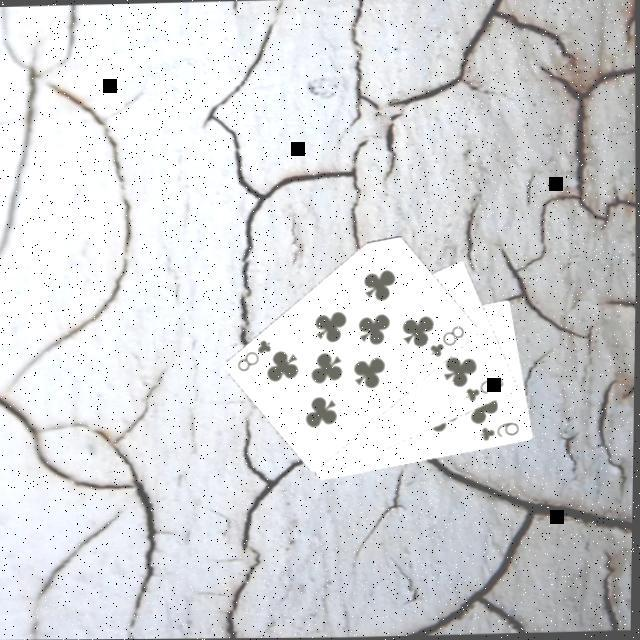5C: (462, 371, 508, 404)
8C: (233, 333, 276, 372), (425, 320, 468, 358)
9C: (477, 418, 522, 443)
